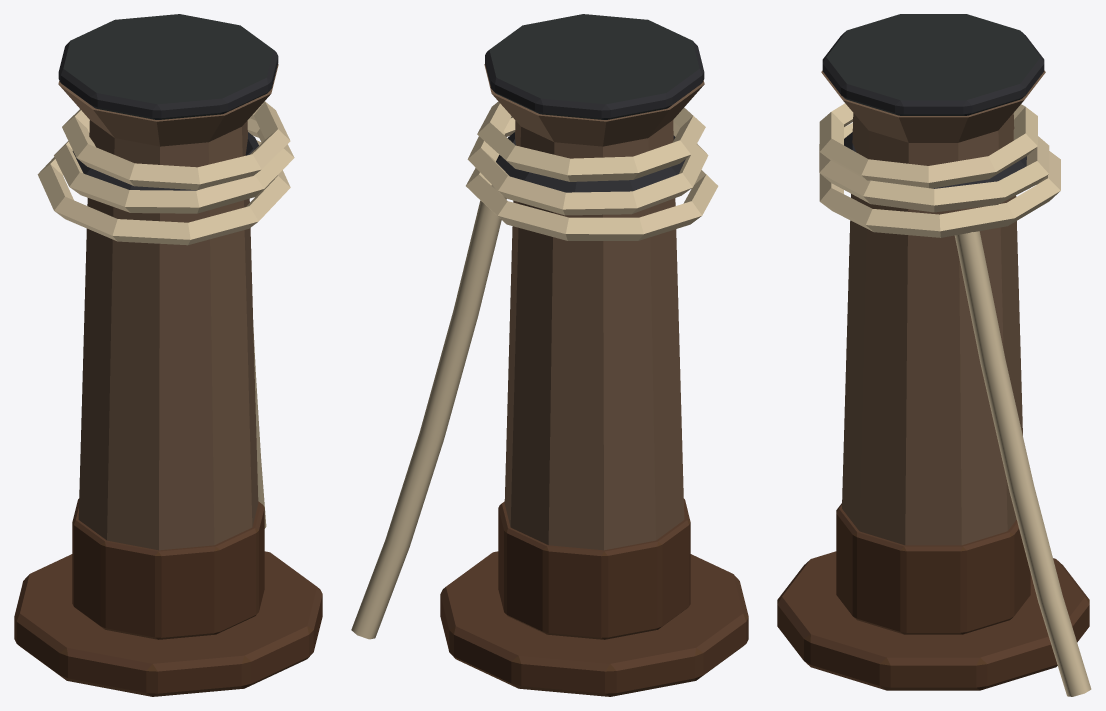
Rendered from prop_mooring_post_a.glb.
3 views of the same model, side by side, from view 1: azimuth 30°, elevation 25°; view 2: azimuth 150°, elevation 25°; view 3: azimuth 270°, elevation 25° (orthographic).
Visible parts, largest first — view 1: bollard_head, bollard_base_plate, bollard_coil_0, bollard_head_cap; view 2: bollard_head, bollard_base_plate, bollard_coil_0, bollard_head_cap; view 3: bollard_head, bollard_base_plate, bollard_coil_0, bollard_head_cap.
Part boxes in pixels (<box>): bollard_head: <box>58,64,278,550</box>; bollard_base_plate: <box>14,498,322,696</box>; bollard_coil_0: <box>37,101,294,528</box>; bollard_head_cap: <box>58,14,278,190</box>; bollard_head: <box>484,64,704,550</box>; bollard_base_plate: <box>440,498,748,696</box>; bollard_coil_0: <box>351,101,718,639</box>; bollard_head_cap: <box>485,14,704,192</box>; bollard_head: <box>821,70,1045,545</box>; bollard_base_plate: <box>777,503,1089,690</box>; bollard_coil_0: <box>819,103,1091,696</box>; bollard_head_cap: <box>822,14,1044,188</box>.
Bounding box in the file's own units: 0.5652 × 1.04 × 0.517.
